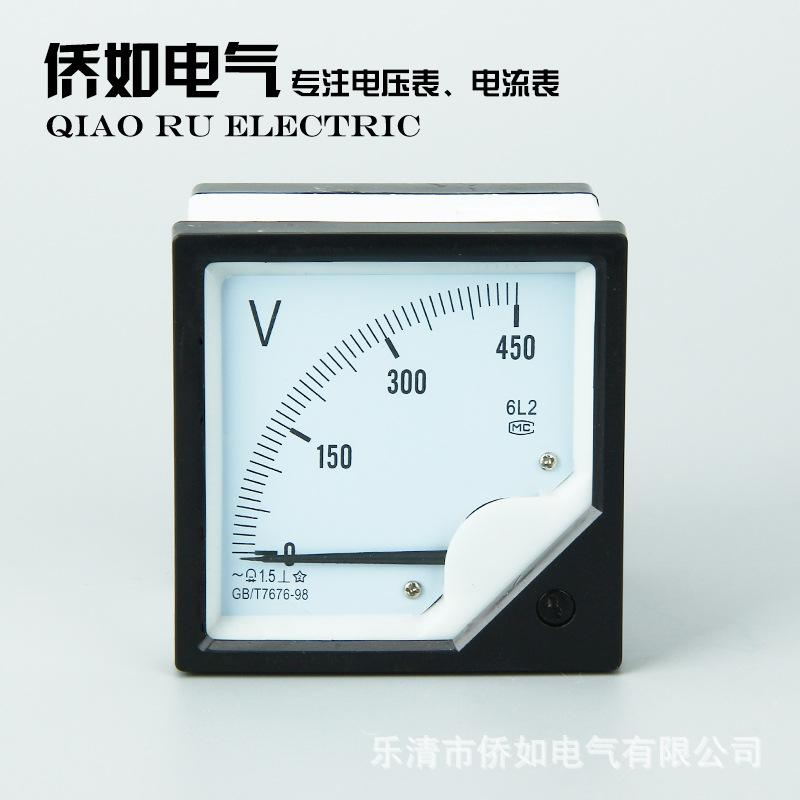pointer: (201, 259, 591, 642)
